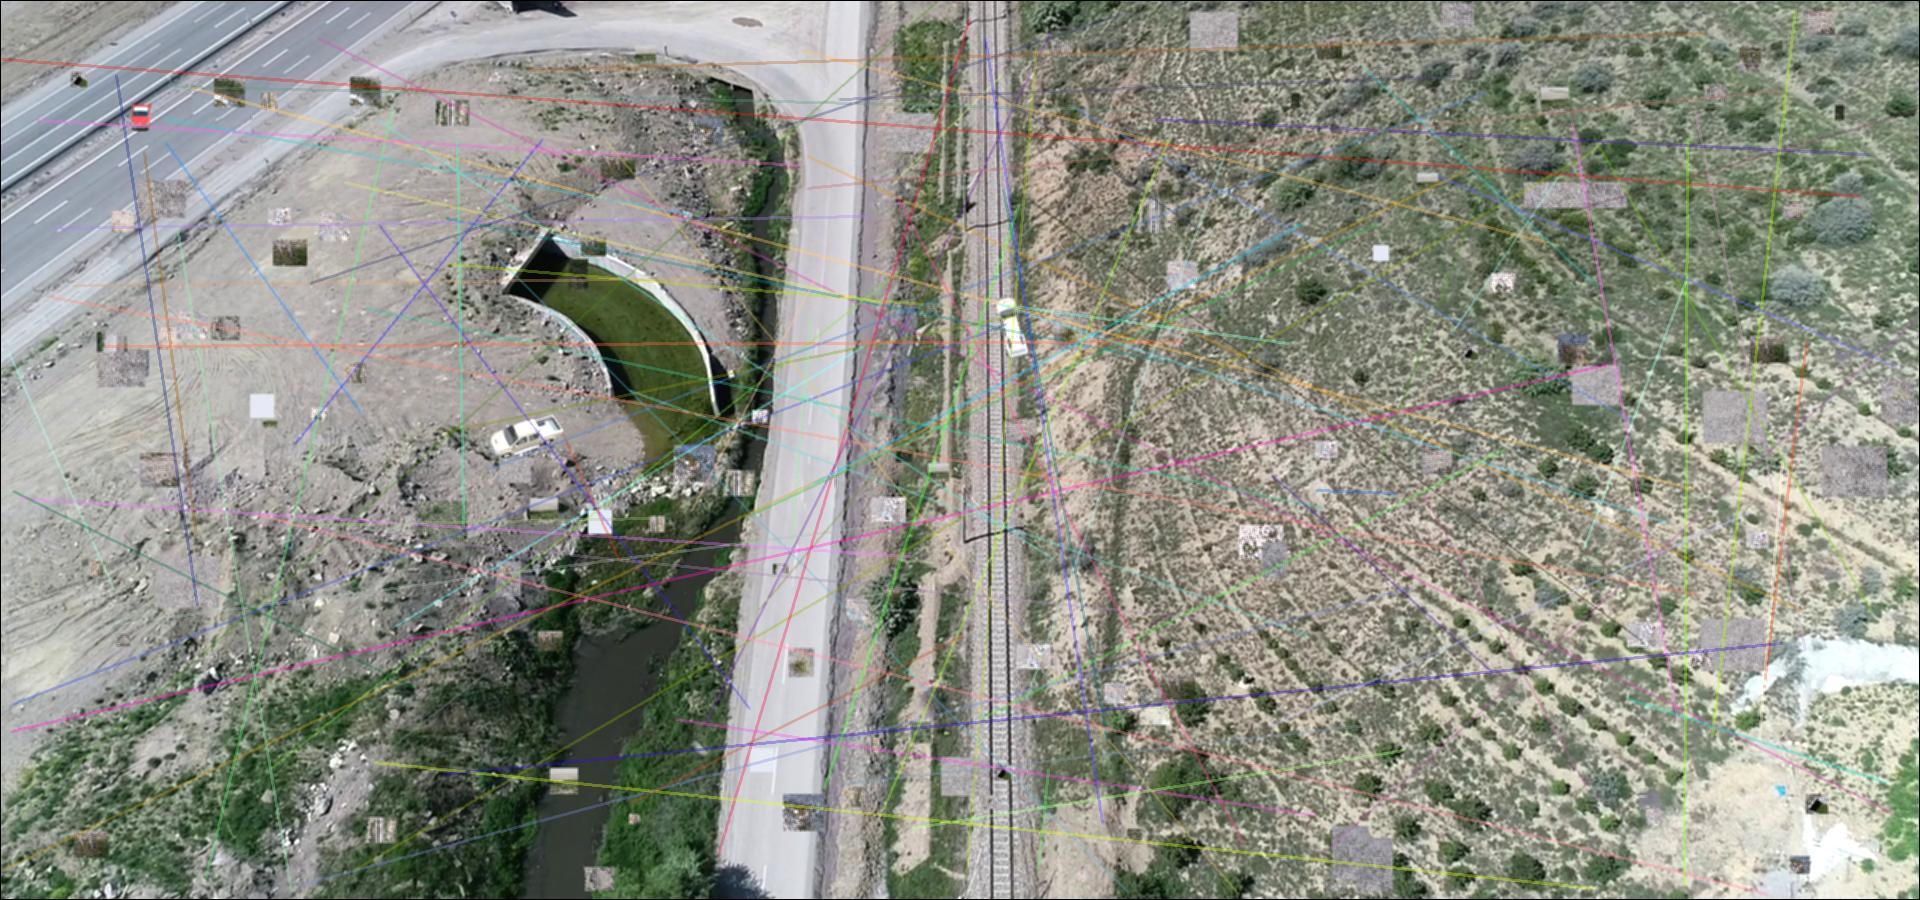arac: (489, 415, 564, 458), (993, 294, 1032, 358), (130, 103, 152, 132)
